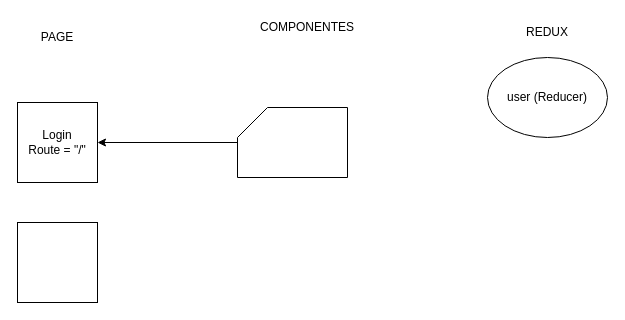
This 625x320 diagram has some shape labels left out. Here are the shapes that lost their labels. From the top down, the box of each, then its label:
(236, 106, 348, 178): userLogin
(16, 222, 98, 302): Wallet
